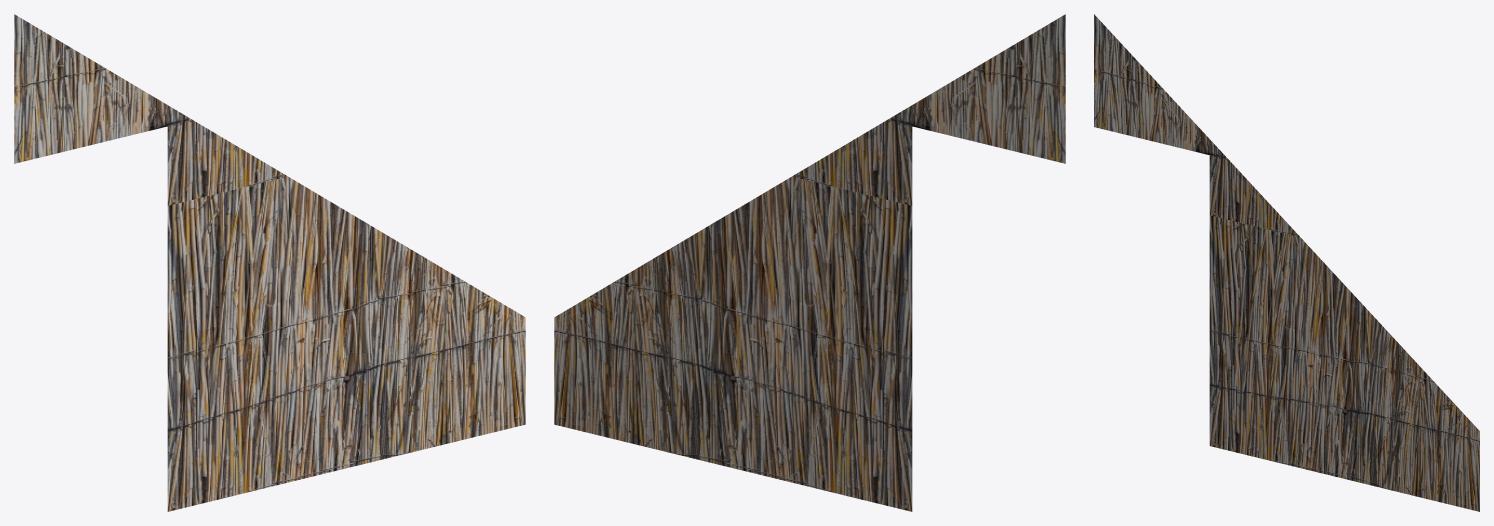
Rendered from HouseFrontWall1.fbx.
The picture shows the model from 3 angles, left to right: view 1: azimuth 30°, elevation 25°; view 2: azimuth 150°, elevation 25°; view 3: azimuth 330°, elevation 25°; orthographic projection. The views are drawn at different scales.
Visible parts, largest first — view 1: FrontWall; view 2: FrontWall; view 3: FrontWall.
Part boxes in pixels (<box>): FrontWall: <box>14,14,525,511</box>; FrontWall: <box>554,14,1065,511</box>; FrontWall: <box>1094,14,1479,511</box>.
Bounding box in the file's own units: 250 × 250 × 4.07e-05.
